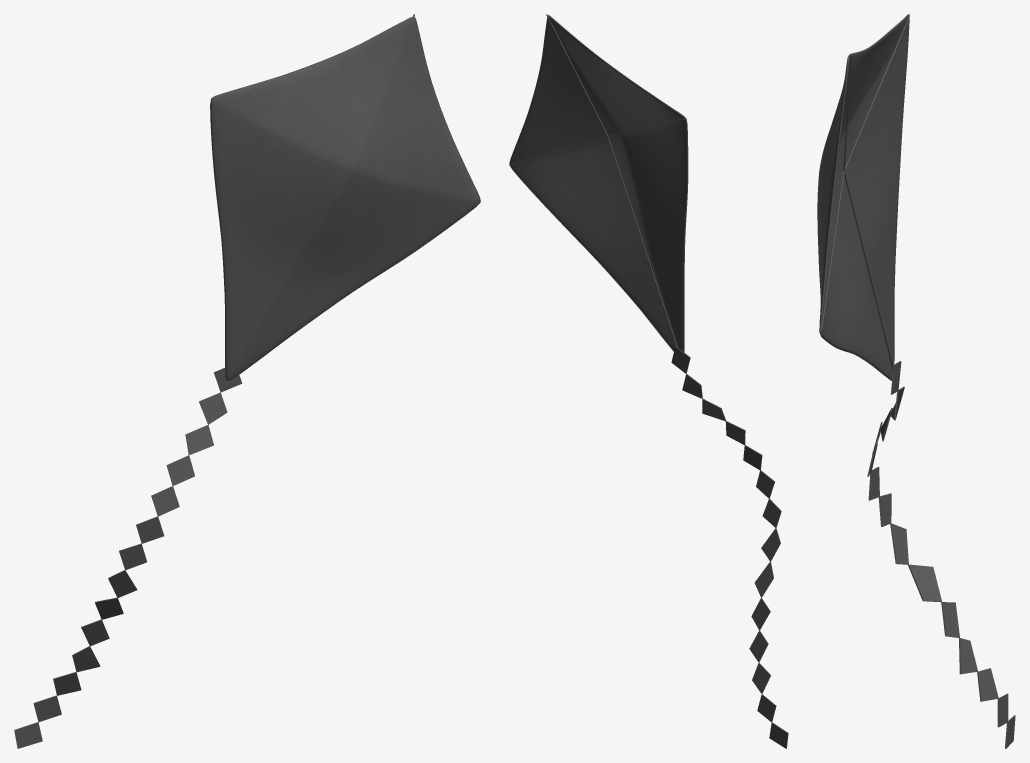
3 views of the same model, side by side, from view 1: azimuth 30°, elevation 25°; view 2: azimuth 150°, elevation 25°; view 3: azimuth 270°, elevation 25° (orthographic). The views are drawn at different scales.
Parts seen in each view (by area): view 1: 002 Kite; view 2: 002 Kite; view 3: 002 Kite.
Boxes of the visible parts, x1,y1,x2,y2 form: 002 Kite: (14,14,480,748); 002 Kite: (509,14,788,748); 002 Kite: (817,14,1015,748).
Size of the model in its own units: 1.29 by 2.22 by 0.4449.
Materials: 1 (1 with a texture image).
